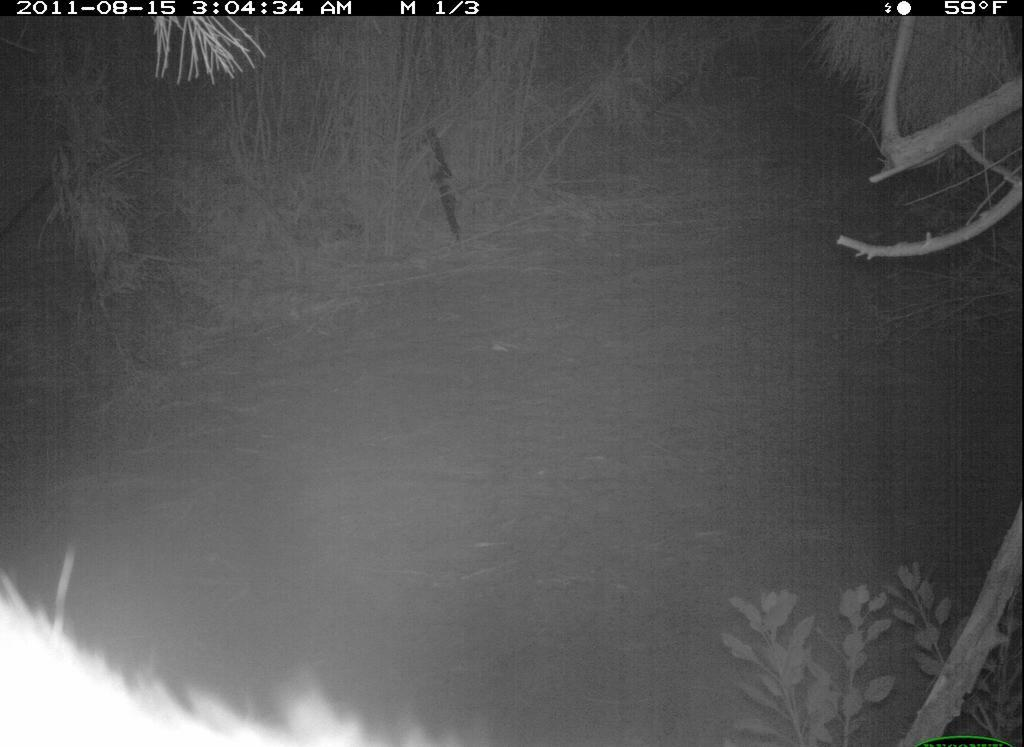raccoon: (4, 550, 468, 747)
